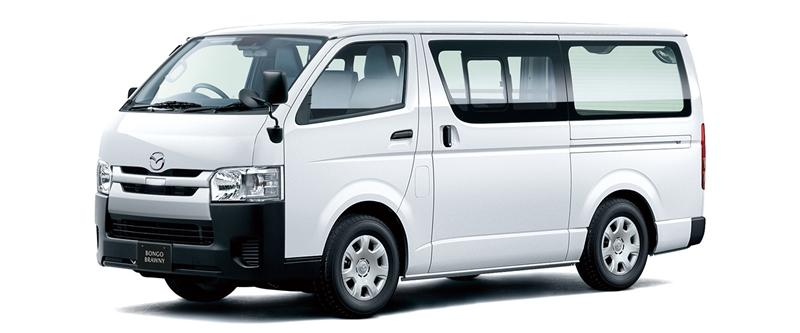van: (91, 17, 707, 317)
